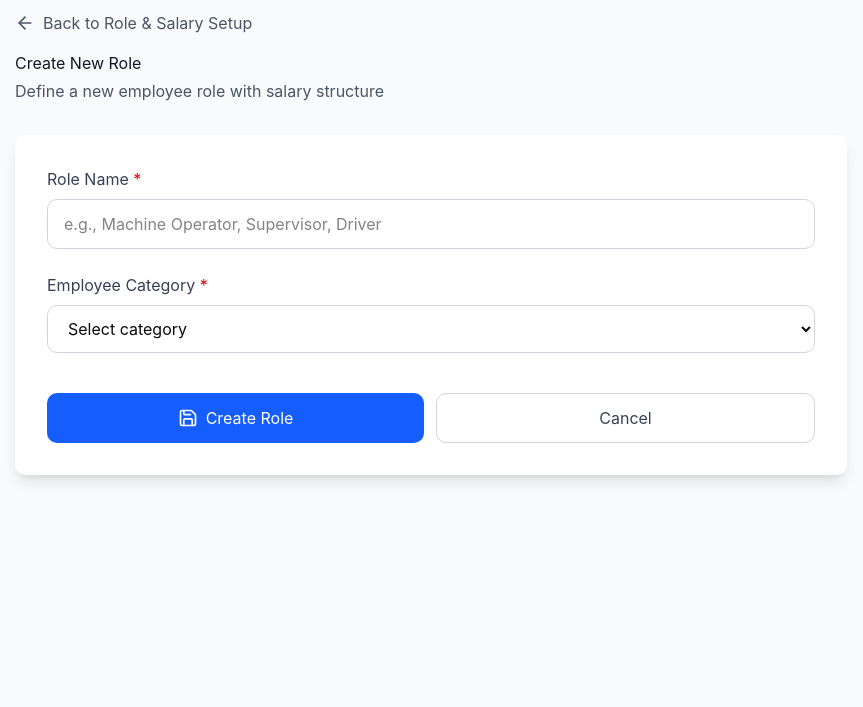
Scenario: CreateRoleScreen › fields for each category › clears the salary errors when the category is changed
Select "Daily Wages" in the dropdown labelled "Employee Category *". click: (431, 329)
box: [47,305,815,353]
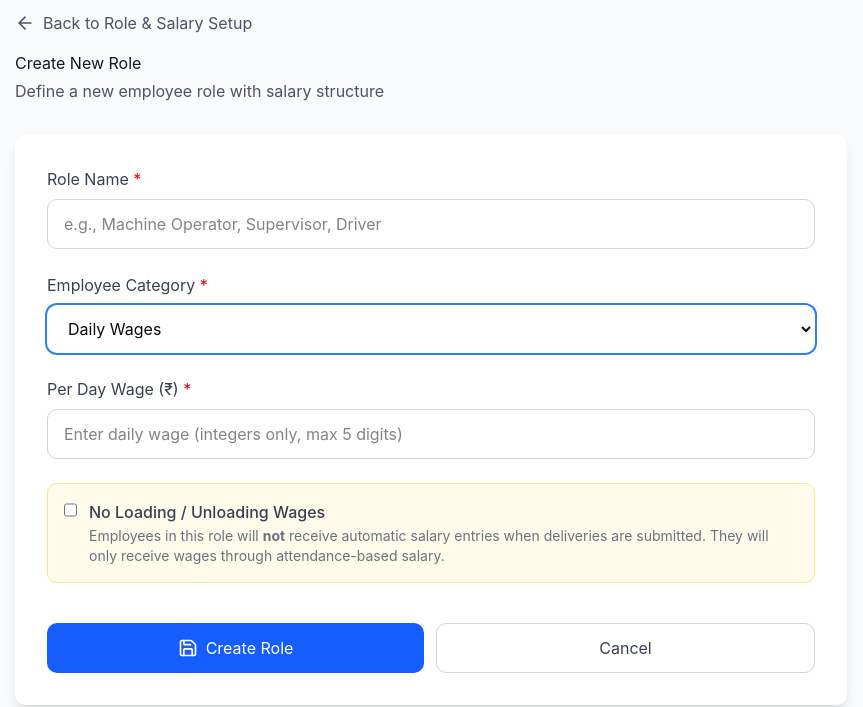
Type "Mason" into the field labelled "Role Name *". click: (431, 224)
box: [47,199,815,249]
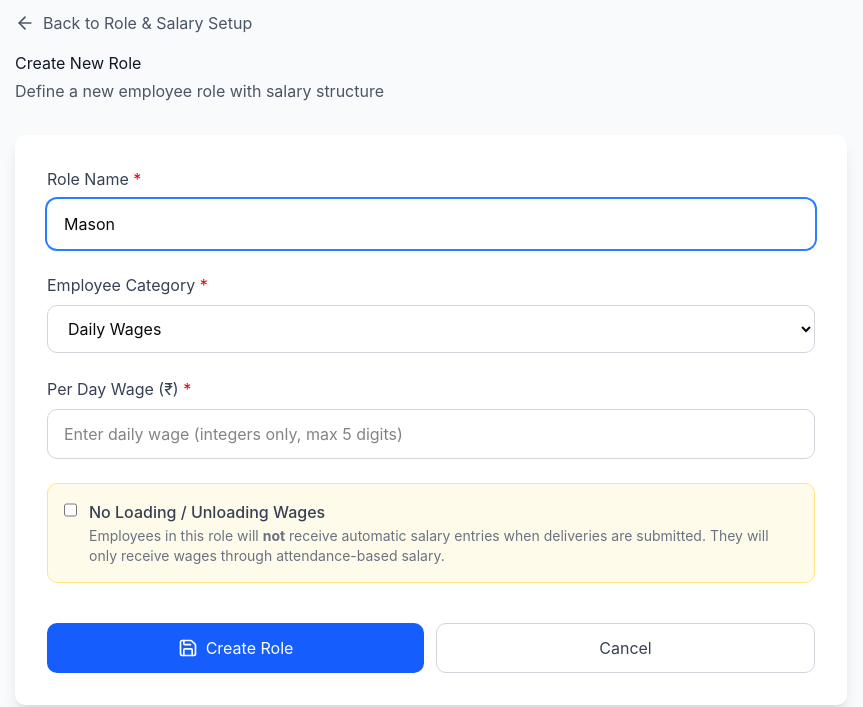
Click the button "Create Role". click: (236, 648)
box: [47,623,424,673]
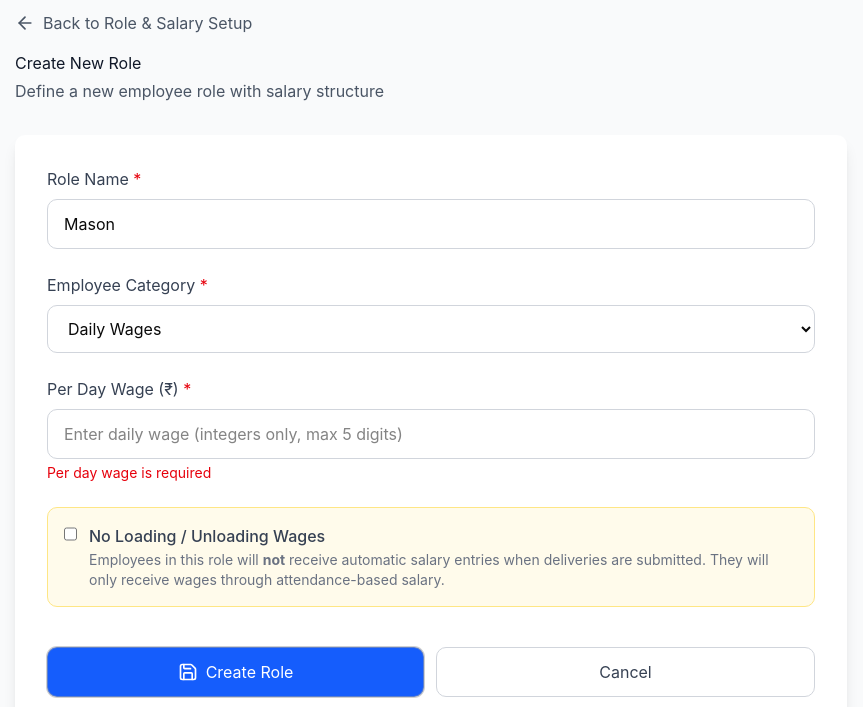
Expected: the text "Per day wage is required" is shown, [47,464,211,481]
Select "Fixed Salary" in the dropdown labelled "Employee Category *". click: (431, 329)
box: [47,305,815,353]
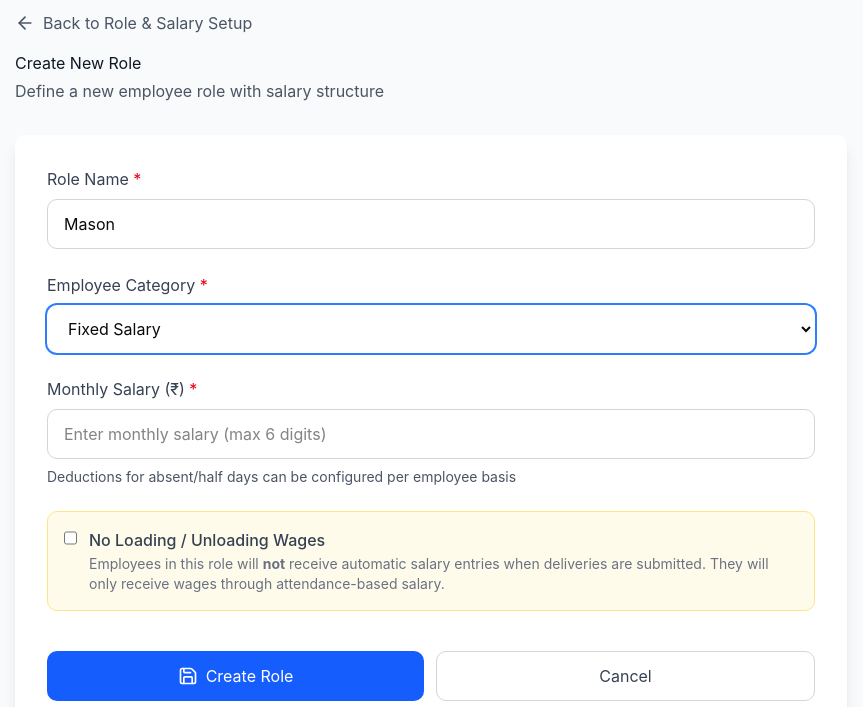
Expected: the text "Per day wage is required" is gone
